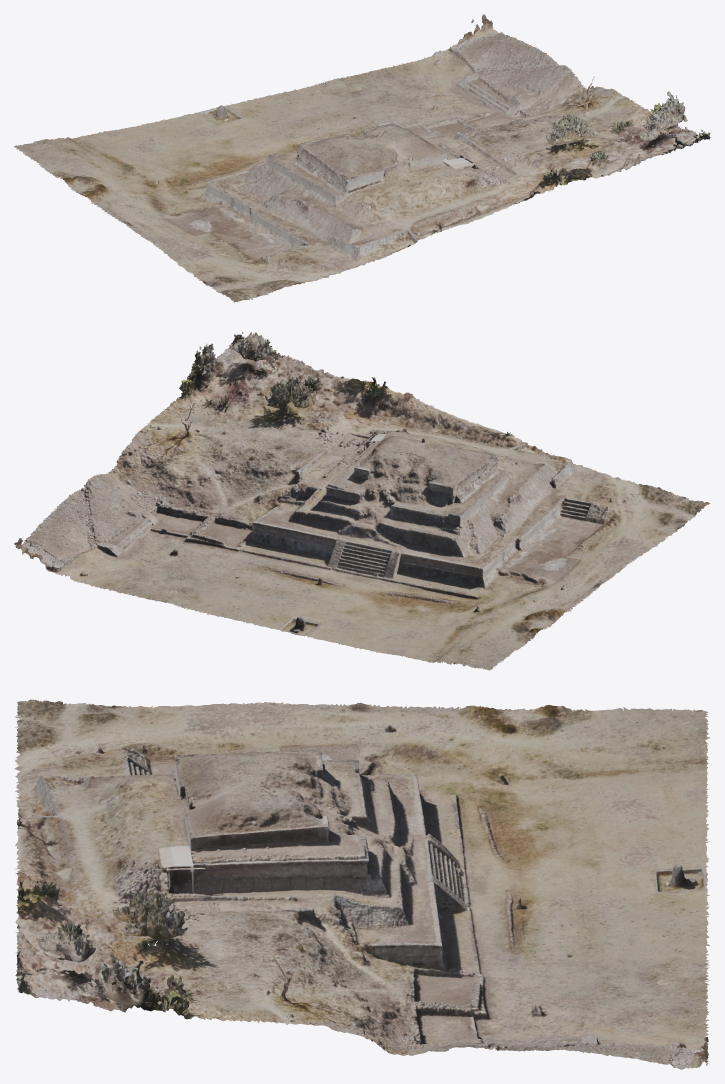
The model's file is huapalcalco_ar.glb.
3 renders of one model, top to bottom at view 1: azimuth 30°, elevation 25°; view 2: azimuth 150°, elevation 25°; view 3: azimuth 270°, elevation 25°, orthographic. The views are drawn at different scales.
Visible parts, largest first — view 1: Modelo200k; view 2: Modelo200k; view 3: Modelo200k.
Part boxes in pixels (x1,y1,x2,y2): Modelo200k: (14,14,710,302); Modelo200k: (14,331,710,670); Modelo200k: (14,699,710,1069).
Bounding box in the file's own units: 0.3331 × 0.0602 × 0.2673.
Materials: 1 (1 with a texture image).
